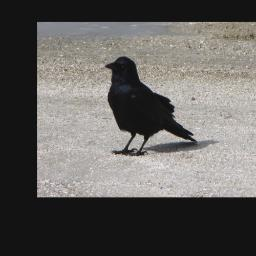Crow: (102, 55, 199, 157)
